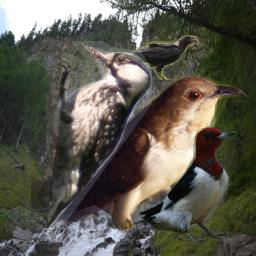Crow: (117, 35, 199, 80)
Cuckoo: (31, 75, 247, 233)
Woodpecker: (46, 41, 152, 239), (132, 127, 240, 243)
